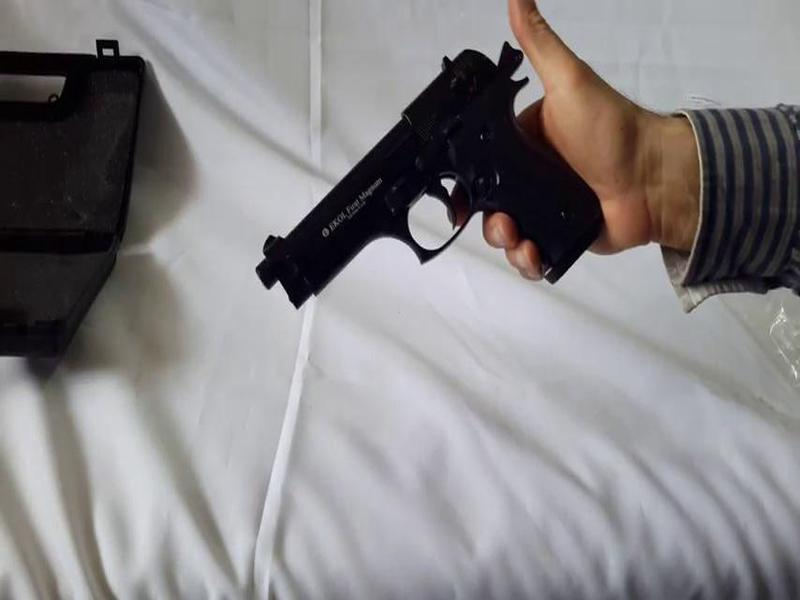Pistola: (244, 49, 623, 348)
